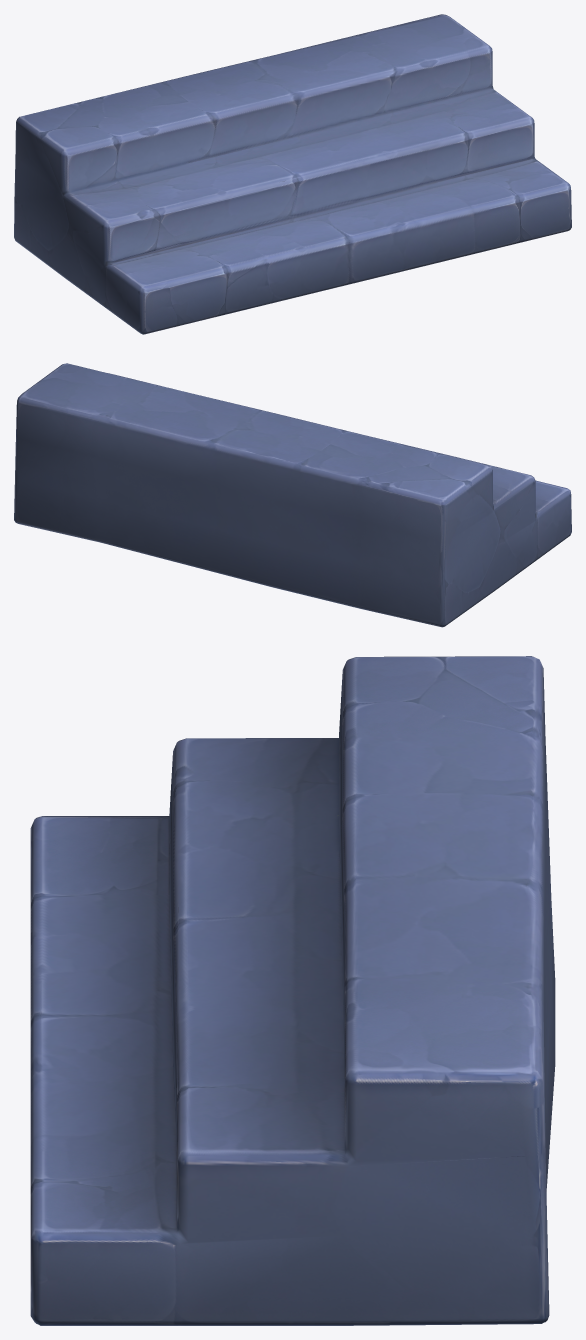
File: stone_stairs.glb
3 views of the same model, one above another, from view 1: azimuth 30°, elevation 25°; view 2: azimuth 150°, elevation 25°; view 3: azimuth 270°, elevation 25° (orthographic). The views are drawn at different scales.
Visible parts, largest first — view 1: tripo_node_1f568594-8f9a-4788-ad59-48318522d16a; view 2: tripo_node_1f568594-8f9a-4788-ad59-48318522d16a; view 3: tripo_node_1f568594-8f9a-4788-ad59-48318522d16a.
Boxes of the visible parts, x1,y1,x2,y2 form: tripo_node_1f568594-8f9a-4788-ad59-48318522d16a: (14,14,571,334); tripo_node_1f568594-8f9a-4788-ad59-48318522d16a: (14,363,571,627); tripo_node_1f568594-8f9a-4788-ad59-48318522d16a: (30,656,555,1325).
Bounding box in the file's own units: 0.998 × 0.2832 × 0.5254.
1 material, 1 textured.
